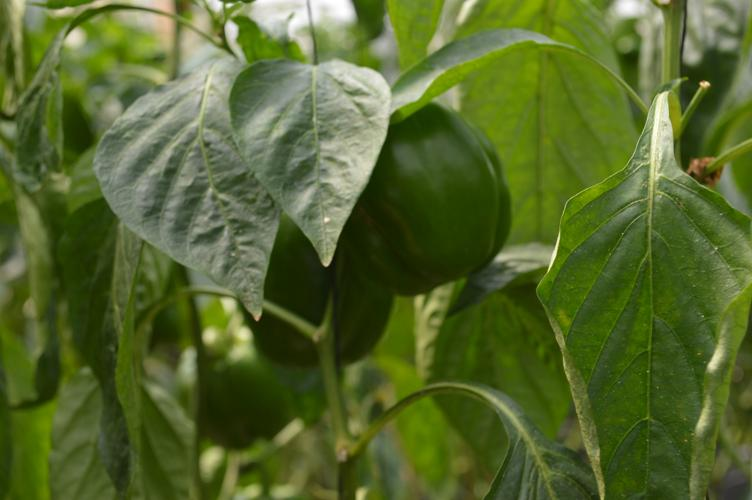BellPepper: (347, 103, 510, 288), (238, 211, 389, 367), (176, 332, 295, 447)
